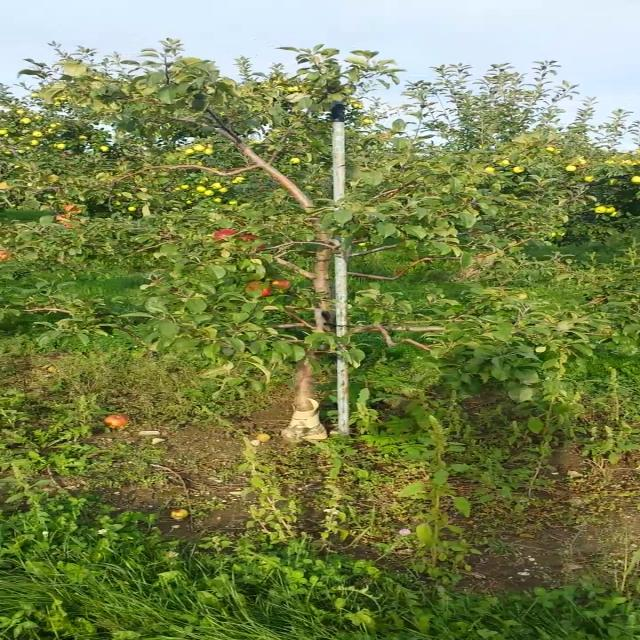apple: (248, 282, 272, 296), (57, 214, 75, 228), (62, 203, 84, 214), (215, 228, 236, 239), (240, 234, 263, 242), (272, 281, 290, 289), (1, 248, 10, 258)
